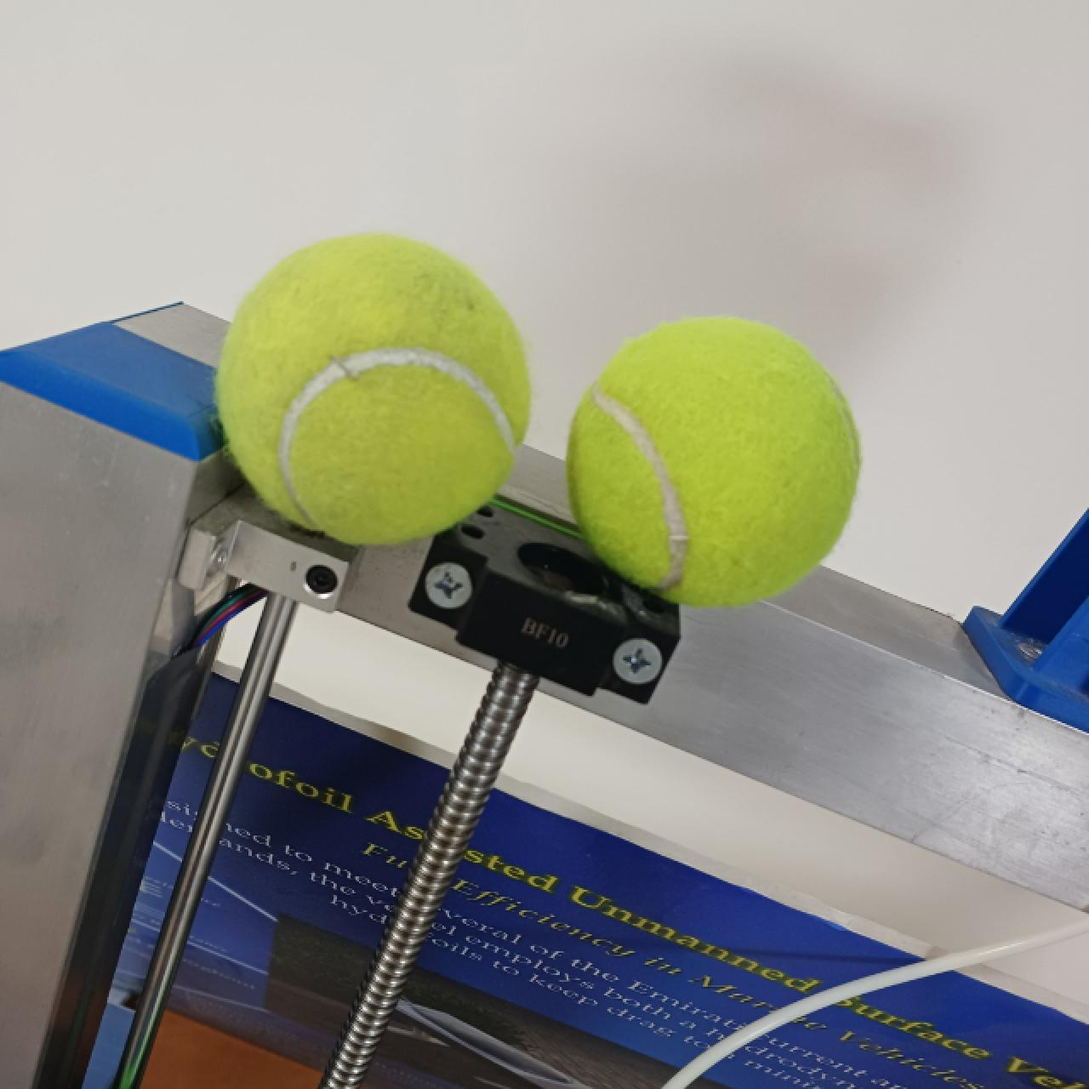tennis-ball: (218, 237, 535, 548), (568, 316, 865, 607)
